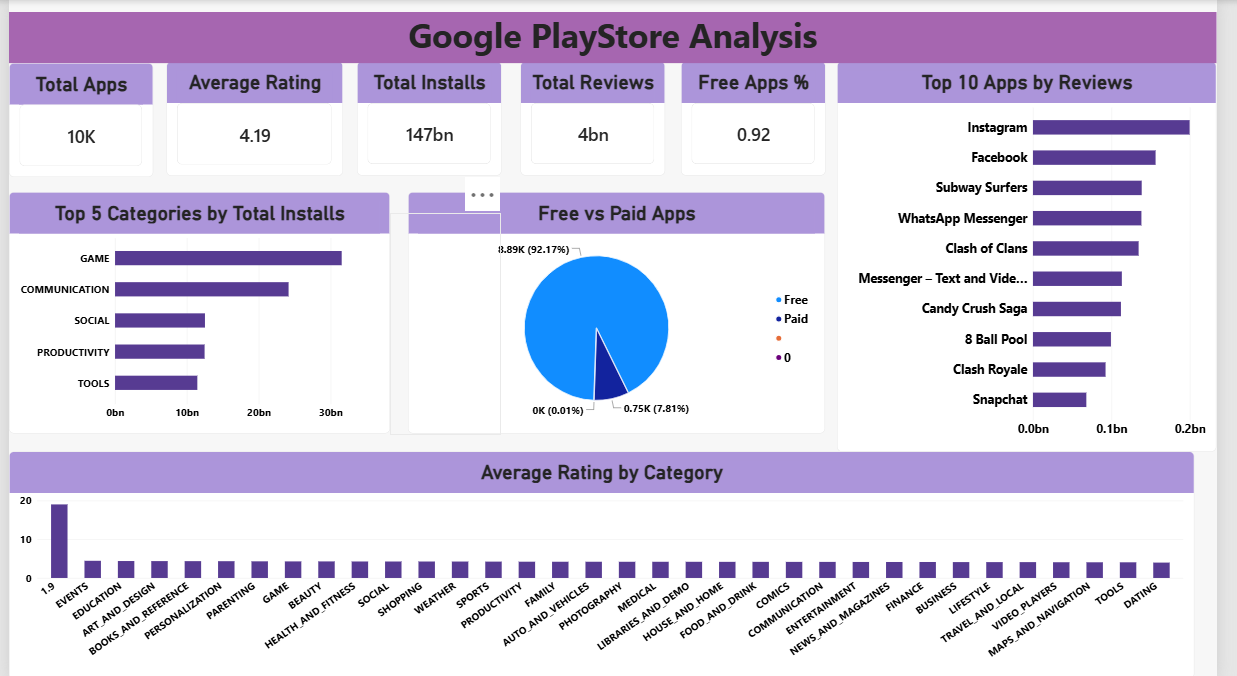

Layout of this report page (visuals, bound fields, positions):
{"tool":"powerbi","page":{"name":"Page 1","canvas":[1920,1080],"ordinal":0},"visuals":[{"type":"kpi","title":"Total Apps","fields":{"Indicator":["CountNonNull(googleplaystore_powerbi.App)"],"TrendLine":["googleplaystore_powerbi.App"]},"box":[0,99.2,229.6,181.4],"z":0},{"type":"cardVisual","title":"Average Rating","fields":{"Data":["Avg(googleplaystore_powerbi.Rating)"]},"box":[251,98.6,280.8,182.2],"z":1},{"type":"cardVisual","title":"Total Installs","fields":{"Data":["Sum(googleplaystore_powerbi.Installs)"]},"box":[552.7,98.6,230,181],"z":2},{"type":"cardVisual","title":"Total Reviews","fields":{"Data":["Sum(googleplaystore_powerbi.Reviews)"]},"box":[812.6,98.6,230,181],"z":3},{"type":"cardVisual","title":"Free Apps %","fields":{"Data":["googleplaystore_powerbi.Free Apps %"]},"box":[1069.6,98.6,230,181],"z":4},{"type":"clusteredBarChart","title":"Top 5 Categories by Total Installs","fields":{"Category":["googleplaystore_powerbi.Category"],"Y":["Sum(googleplaystore_powerbi.Installs)"]},"box":[0,337.6,606.5,352.5],"z":5},{"type":"clusteredBarChart","title":"Top 10 Apps by Reviews","fields":{"Category":["googleplaystore_powerbi.App"],"Y":["Sum(googleplaystore_powerbi.Reviews)"]},"box":[1359.4,98.6,561.7,618.4],"z":6},{"type":"clusteredColumnChart","title":"Average Rating by Category","fields":{"Category":["googleplaystore_powerbi.Category"],"Y":["Avg(googleplaystore_powerbi.Rating)"]},"box":[0,717,1885.2,361.5],"z":7},{"type":"pieChart","title":"Free vs Paid Apps","fields":{"Category":["googleplaystore_powerbi.Type"],"Y":["Count(googleplaystore_powerbi.App)"]},"box":[758.9,337.6,516.9,352.5],"z":8}]}

Visuals, with their boxes in screenshot pixels (x1, y1, x2, y2), scaled from the page's 1920x1080 canvas onto the 1237x676 screenshot:
"Total Apps" kpi: 0:62:148:176
"Average Rating" cardVisual: 162:62:343:176
"Total Installs" cardVisual: 356:62:504:175
"Total Reviews" cardVisual: 524:62:672:175
"Free Apps %" cardVisual: 689:62:837:175
"Top 5 Categories by Total Installs" clusteredBarChart: 0:211:391:432
"Top 10 Apps by Reviews" clusteredBarChart: 876:62:1236:449
"Average Rating by Category" clusteredColumnChart: 0:449:1215:675
"Free vs Paid Apps" pieChart: 489:211:822:432
